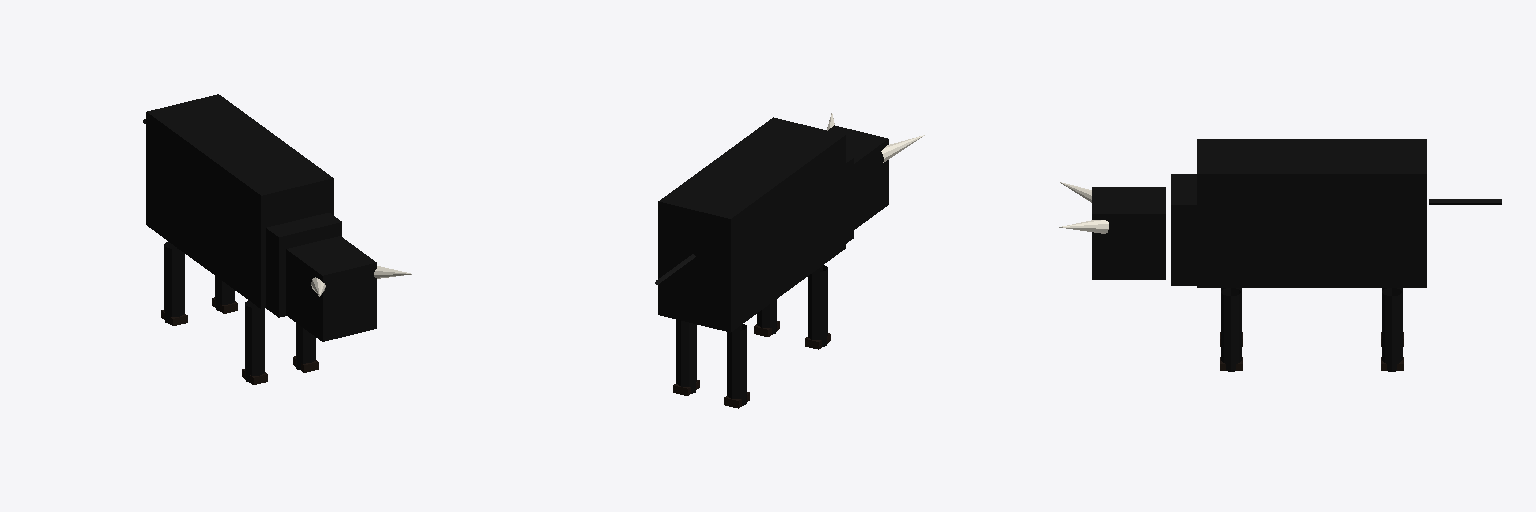
Rendered from toro_lowpoly.obj.
3 renders of one model, left to right at view 1: azimuth 30°, elevation 25°; view 2: azimuth 150°, elevation 25°; view 3: azimuth 270°, elevation 25°, orthographic.
Bounding box in the file's own units: 1.04 × 2.1 × 4.25.